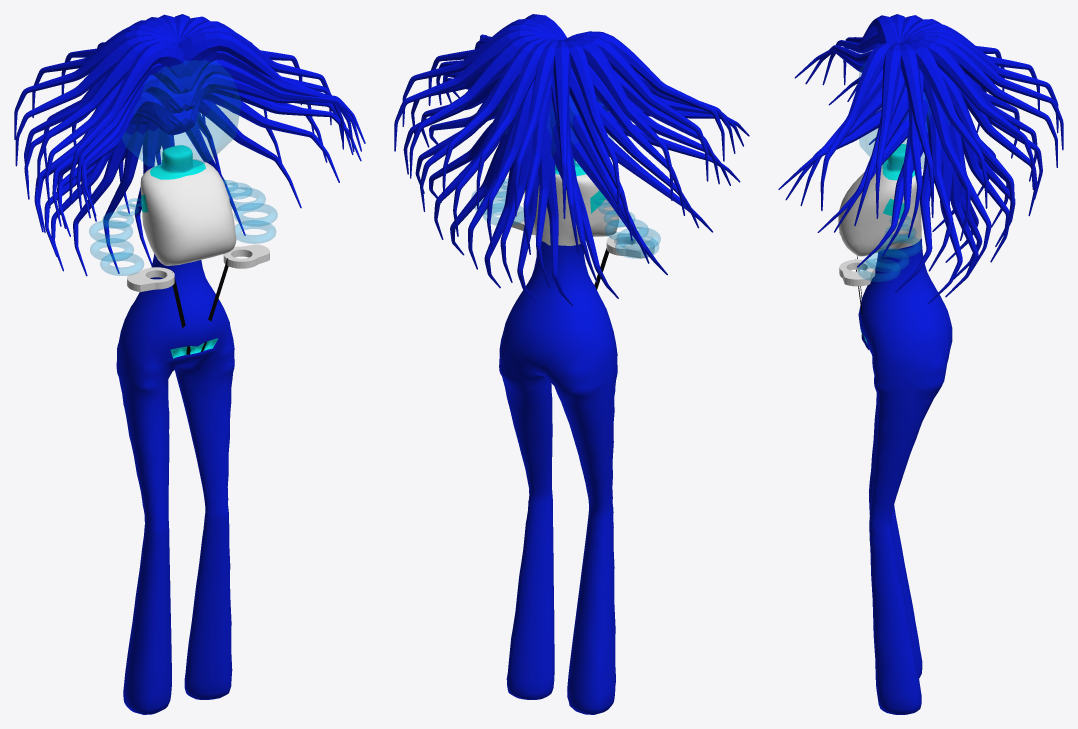
The model's file is крус.fbx.
The picture shows the model from 3 angles, left to right: view 1: azimuth 30°, elevation 25°; view 2: azimuth 150°, elevation 25°; view 3: azimuth 270°, elevation 25°; orthographic projection.
Parts seen in each view (by area): view 1: Cube; view 2: Cube; view 3: Cube.
Part boxes in pixels (bbox=[...]): Cube: bbox=[14, 14, 365, 714]; Cube: bbox=[394, 14, 749, 714]; Cube: bbox=[778, 14, 1063, 714].
Size of the model in its own units: 153 by 343 by 134.
